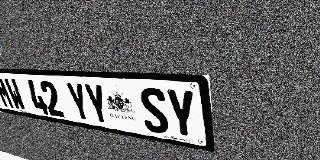2: (38, 80, 65, 117)
4: (25, 79, 50, 115)
M: (0, 77, 15, 109)
S: (138, 87, 170, 135)
W: (3, 78, 27, 111)
Y: (165, 88, 199, 140), (82, 83, 112, 125), (65, 82, 93, 122)
